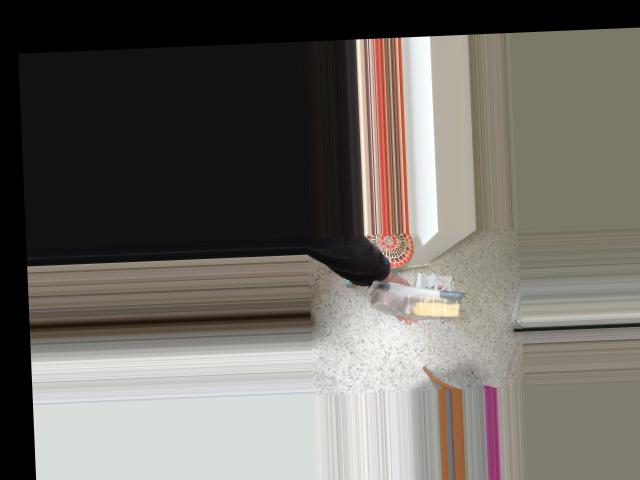cheese: (371, 277, 463, 323)
